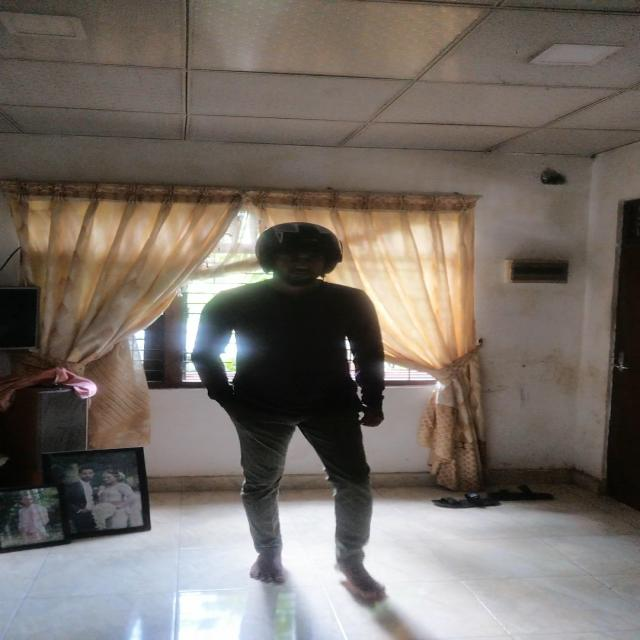Helmet_Wearer: (243, 219, 345, 287)
Person: (196, 217, 391, 596)
